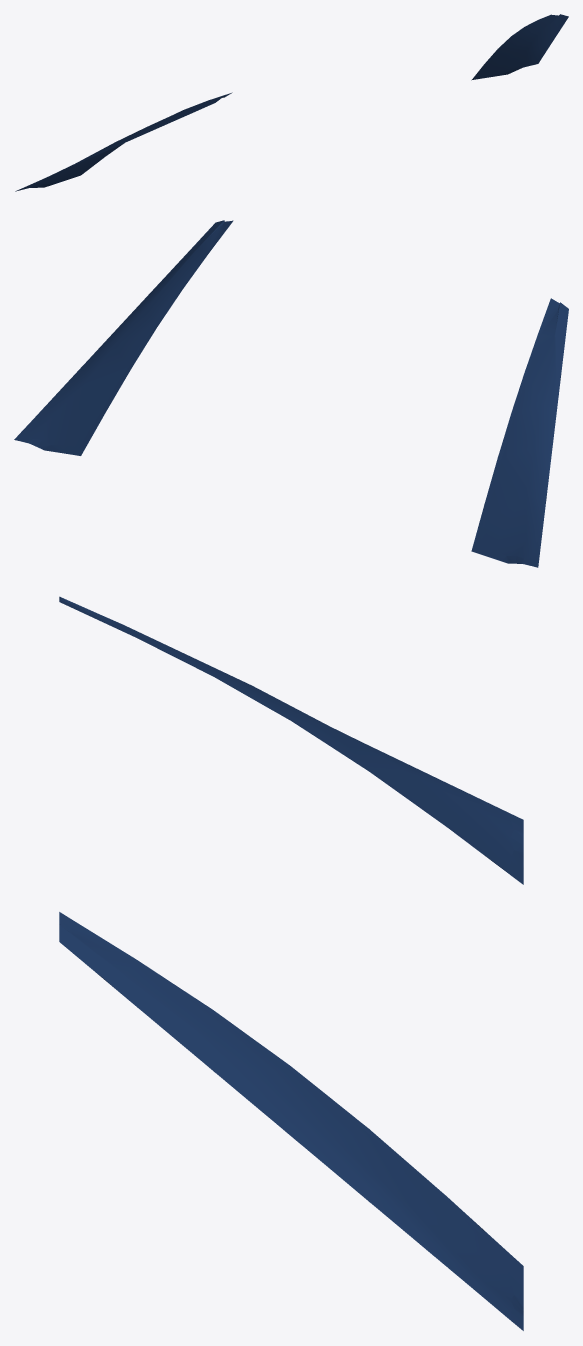
File: a_pillar.glb
The picture shows the model from 3 angles, top to bottom: view 1: azimuth 30°, elevation 25°; view 2: azimuth 150°, elevation 25°; view 3: azimuth 270°, elevation 25°; orthographic projection. The views are drawn at different scales.
Parts seen in each view (by area): view 1: GEO_A_Pillars; view 2: GEO_A_Pillars; view 3: GEO_A_Pillars.
Boxes of the visible parts, <box> form: GEO_A_Pillars: <box>15,14,568,191</box>; GEO_A_Pillars: <box>14,220,568,567</box>; GEO_A_Pillars: <box>59,596,523,1330</box>.
Size of the model in its own units: 1.72 by 0.5096 by 0.6599.
